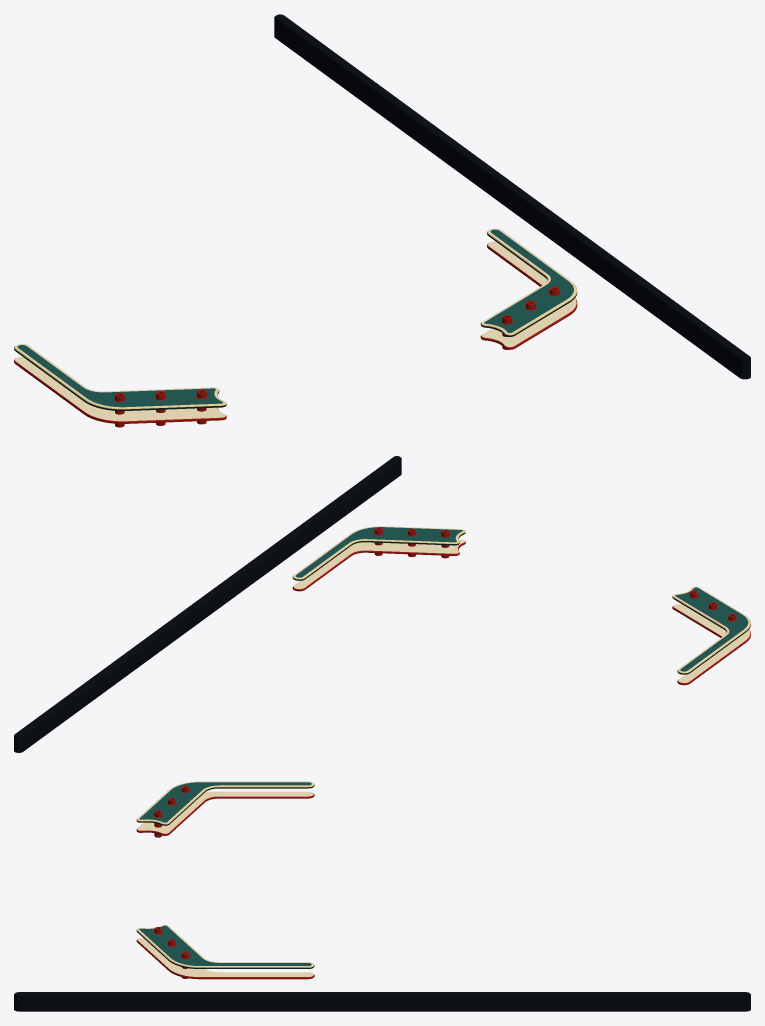
File: common-walls.dae
3 views of the same model, one above another, from view 1: azimuth 30°, elevation 25°; view 2: azimuth 150°, elevation 25°; view 3: azimuth 270°, elevation 25° (orthographic). The views are drawn at different scales.
Visible parts, largest first — view 1: cabinet_shell, guide_face, guide_inlay, guide_mark, guide_body, guide_tube, guide_edge; view 2: cabinet_shell, guide_face, guide_inlay, guide_mark, guide_body, guide_edge, guide_tube; view 3: cabinet_shell, guide_face, guide_inlay, guide_mark, guide_body, guide_edge, guide_tube.
Part boxes in pixels (x1,y1,x2,y2): cabinet_shell: [274, 14, 750, 379]; guide_face: [15, 228, 576, 421]; guide_inlay: [17, 229, 573, 407]; guide_mark: [14, 243, 577, 423]; guide_body: [14, 233, 577, 410]; guide_tube: [115, 286, 559, 427]; guide_edge: [14, 230, 577, 409]; cabinet_shell: [14, 456, 401, 752]; guide_face: [293, 526, 750, 682]; guide_inlay: [295, 527, 748, 671]; guide_mark: [292, 532, 750, 685]; guide_body: [292, 532, 750, 674]; guide_edge: [292, 530, 750, 673]; guide_tube: [374, 527, 736, 620]; cabinet_shell: [14, 992, 750, 1011]; guide_face: [137, 781, 313, 976]; guide_inlay: [139, 782, 311, 965]; guide_mark: [136, 790, 314, 979]; guide_body: [136, 785, 314, 968]; guide_edge: [136, 784, 314, 967]; guide_tube: [154, 785, 189, 978].
Size of the model in its own units: 0.8487 by 0.0455 by 1.26.
